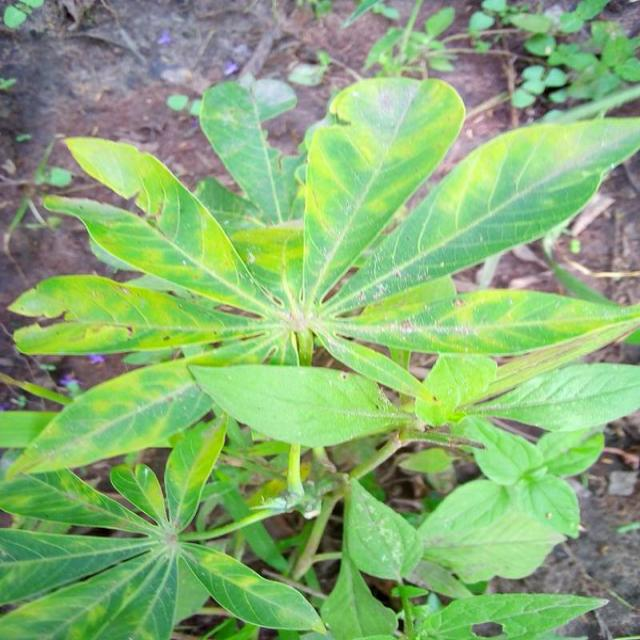cassava leaf: (2, 70, 640, 638)
